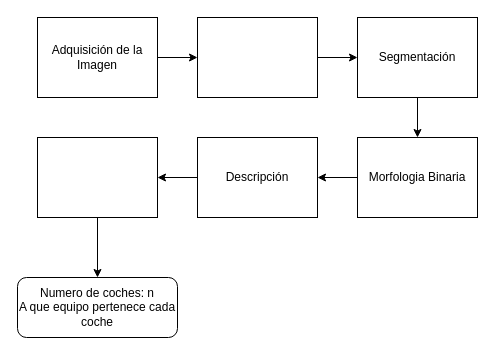
Some shapes in this 495 by 355 pixel diagram are drawn without their labels. Each missing label, with the centre of its shape:
Preprocesado: the point at 257,57
Reconocimiento: the point at 97,177
